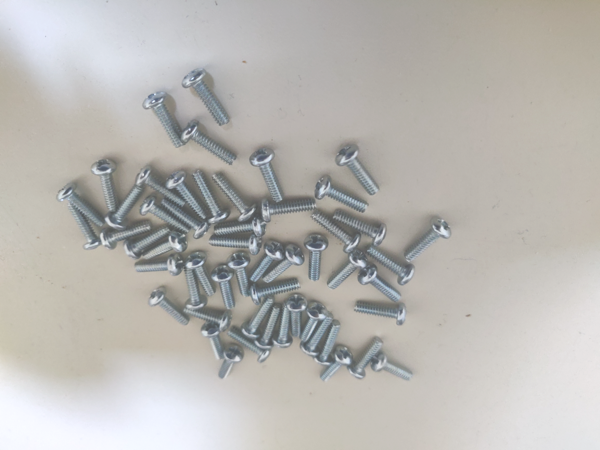shortscrew: (182, 68, 230, 127), (181, 121, 238, 166), (142, 92, 184, 149), (336, 144, 380, 196), (212, 173, 258, 222), (56, 182, 105, 227), (311, 210, 362, 253), (192, 169, 231, 225), (136, 166, 188, 208), (404, 217, 452, 262), (315, 175, 370, 214), (165, 170, 208, 219), (160, 199, 211, 239), (332, 211, 388, 247), (366, 245, 415, 286), (141, 195, 192, 234), (105, 184, 146, 230), (250, 148, 284, 203), (358, 263, 403, 303), (67, 202, 103, 251), (263, 243, 305, 284), (123, 226, 173, 260), (149, 287, 191, 327), (227, 328, 274, 363), (346, 338, 384, 381), (328, 250, 367, 291), (100, 221, 153, 251), (301, 312, 334, 357), (92, 159, 120, 212), (185, 251, 217, 297), (183, 303, 232, 333), (242, 296, 275, 340), (250, 278, 302, 305), (250, 241, 284, 282), (142, 231, 188, 261), (261, 199, 317, 223), (354, 302, 406, 327), (313, 320, 341, 366), (214, 214, 266, 238), (209, 233, 263, 256), (371, 353, 415, 381), (321, 345, 354, 382), (184, 261, 208, 311), (211, 264, 237, 310), (299, 301, 328, 342), (304, 234, 329, 281), (227, 252, 252, 298), (201, 321, 228, 360), (135, 255, 185, 276), (218, 344, 245, 380), (286, 294, 308, 337), (274, 303, 290, 349)
